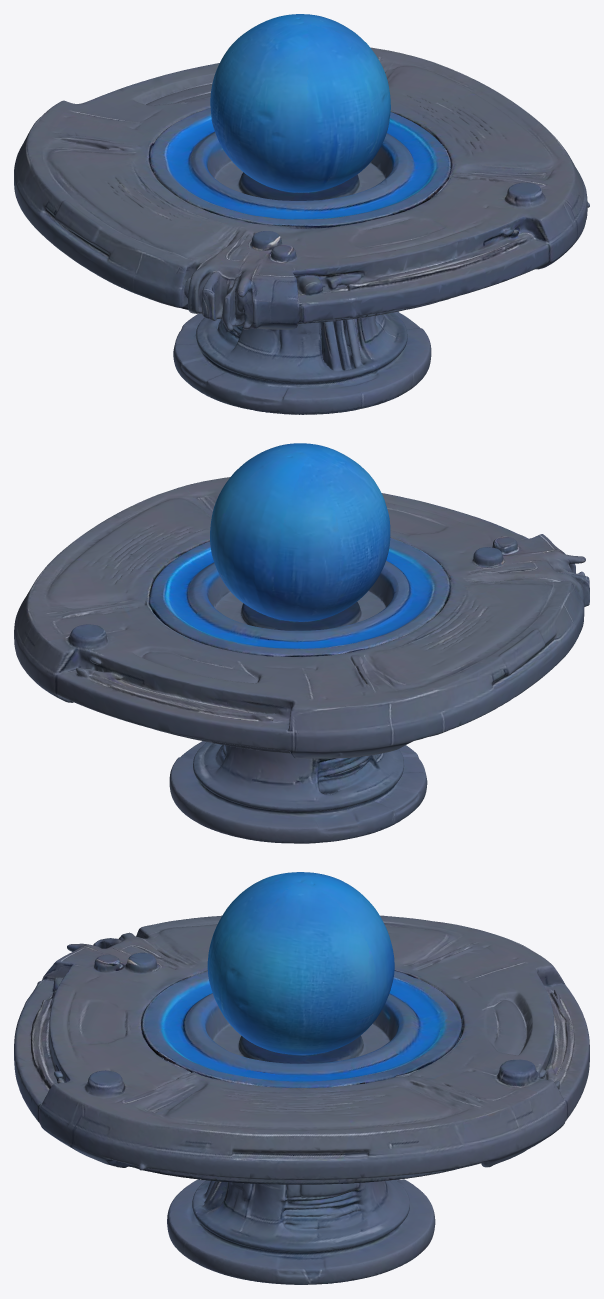
The model's file is gotham_command_globe.glb.
3 views of the same model, one above another, from view 1: azimuth 30°, elevation 25°; view 2: azimuth 150°, elevation 25°; view 3: azimuth 270°, elevation 25° (orthographic). The views are drawn at different scales.
Visible parts, largest first — view 1: tripo_node_d50d82f1-ed56-4d16-b5b7-cfd616b945c6; view 2: tripo_node_d50d82f1-ed56-4d16-b5b7-cfd616b945c6; view 3: tripo_node_d50d82f1-ed56-4d16-b5b7-cfd616b945c6.
Boxes of the visible parts, bbox=[...] form: tripo_node_d50d82f1-ed56-4d16-b5b7-cfd616b945c6: bbox=[14, 14, 589, 414]; tripo_node_d50d82f1-ed56-4d16-b5b7-cfd616b945c6: bbox=[14, 443, 589, 843]; tripo_node_d50d82f1-ed56-4d16-b5b7-cfd616b945c6: bbox=[14, 872, 589, 1284].
Size of the model in its own units: 0.9614 by 0.6873 by 1.
1 material, 1 textured.
